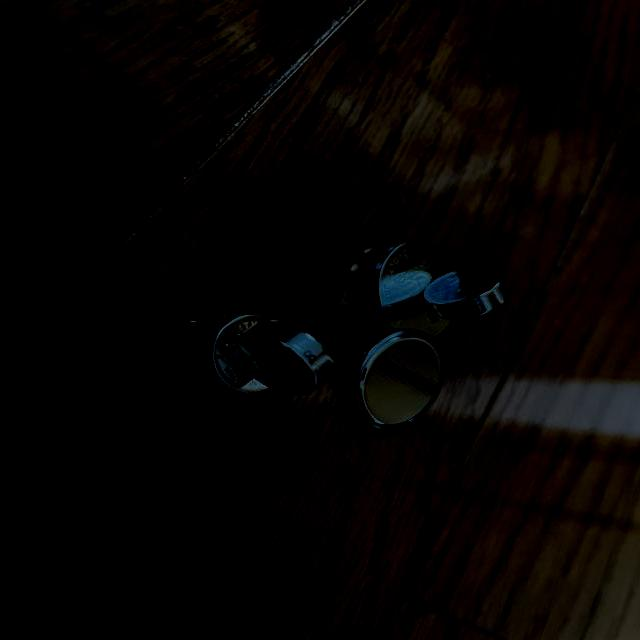COIN: (342, 332, 448, 432), (366, 238, 456, 348), (230, 318, 332, 398), (200, 312, 280, 400), (423, 266, 510, 322)
